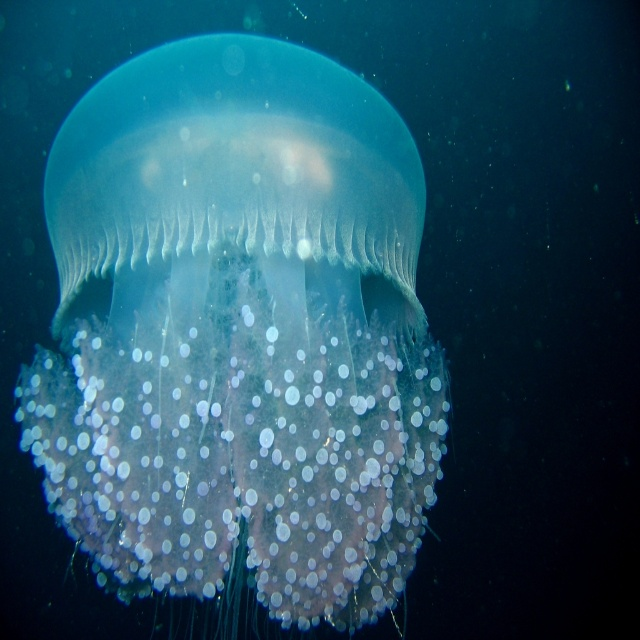Jellyfish: (14, 32, 450, 639)
